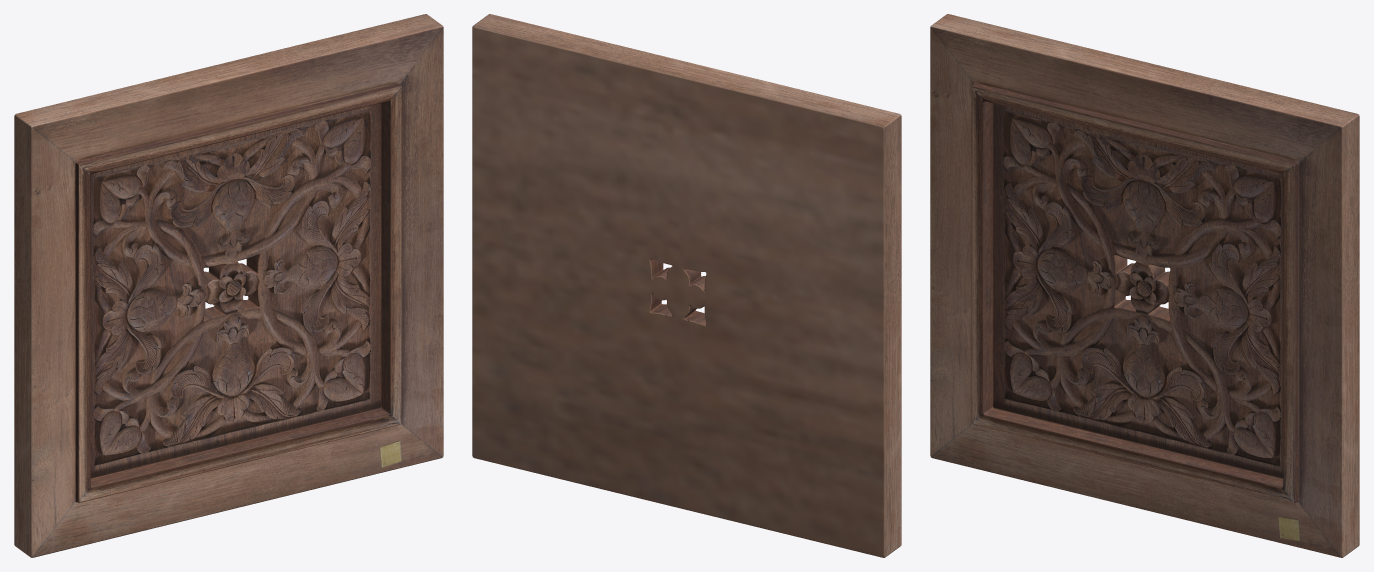
Rendered from Wall Decoration Panel (ADR(TRG) 2 E).fbx.
The picture shows the model from 3 angles, left to right: view 1: azimuth 30°, elevation 25°; view 2: azimuth 150°, elevation 25°; view 3: azimuth 330°, elevation 25°; orthographic projection.
Parts seen in each view (by area): view 1: Wall Decoration Panel (ADR(TRG) 2 E); view 2: Wall Decoration Panel (ADR(TRG) 2 E); view 3: Wall Decoration Panel (ADR(TRG) 2 E).
Part boxes in pixels (x1,y1,x2,y2): Wall Decoration Panel (ADR(TRG) 2 E): (14,14,443,557); Wall Decoration Panel (ADR(TRG) 2 E): (472,14,901,557); Wall Decoration Panel (ADR(TRG) 2 E): (930,14,1359,557).
Bounding box in the file's own units: 52 × 52 × 4.5.
Materials: 1 (1 with a texture image).
